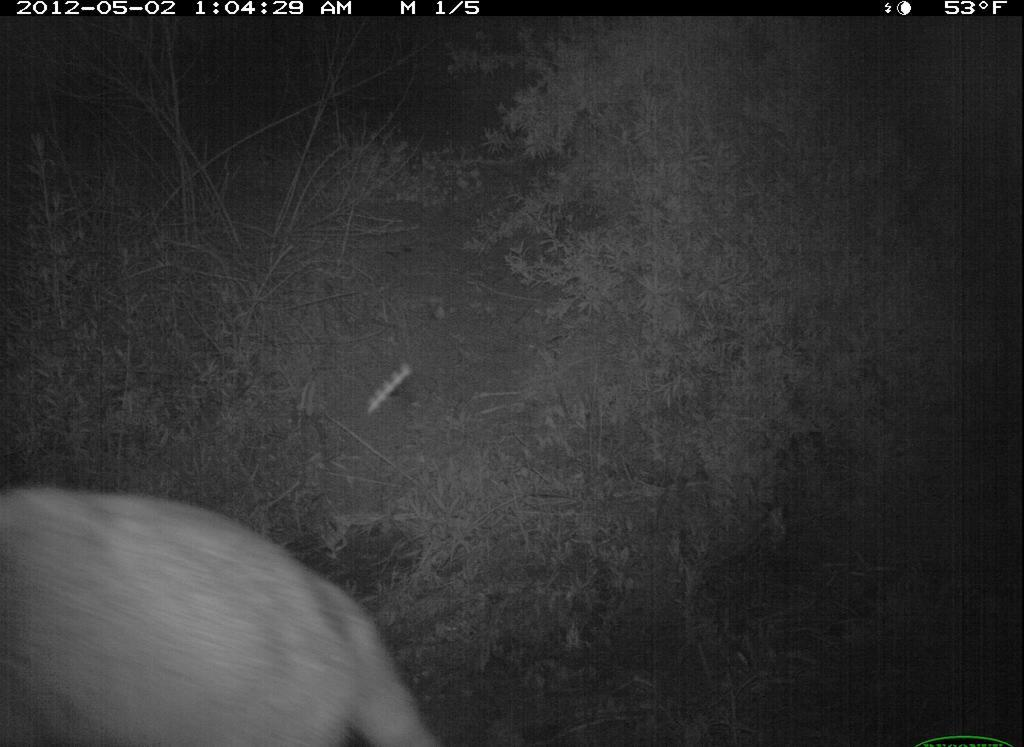raccoon: (4, 486, 434, 745)
